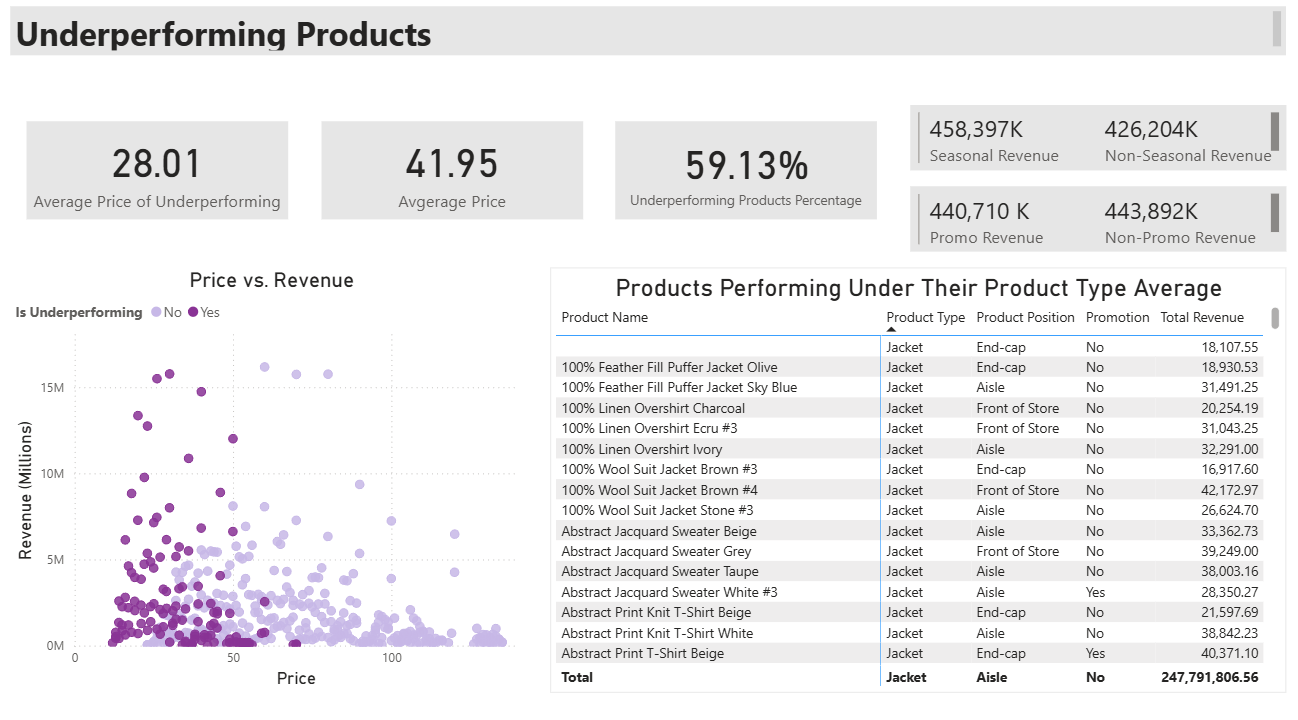

Layout of this report page (visuals, bound fields, positions):
{"tool":"powerbi","page":{"name":"Underperforming Products","canvas":[1280,720],"ordinal":2},"visuals":[{"type":"card","fields":{"Values":["Fact_Sales.Perfcent Of Underperforming Products"]},"box":[608,128,256,96],"z":0,"group":"g1"},{"type":"pivotTable","title":"Products Performing Under Their Product Type Average","fields":{"Rows":["Fact_Sales.Product Name"],"Values":["Min(Fact_Sales.Product Type)","Min(Fact_Sales.Product Position)","Min(Fact_Sales.Promotion)","Fact_Sales.Total Revenue"]},"box":[544,272,720,416],"z":0},{"type":"card","fields":{"Values":["Fact_Sales.Avg Price Underperforming"]},"box":[32,128,256,96],"z":1000,"group":"g1"},{"type":"multiRowCard","fields":{"Values":["Fact_Sales.Promo Revenue","Fact_Sales.Non-Promo Revenue"]},"box":[896,192,368,64],"z":1000},{"type":"card","fields":{"Values":["Fact_Sales.Avgerage Price"]},"box":[320,128,256,96],"z":2000,"group":"g1"},{"type":"multiRowCard","fields":{"Values":["Fact_Sales.Seasonal Revenue","Fact_Sales.Non-Seasonal Revenue"]},"box":[896,112,368,64],"z":2000},{"type":"scatterChart","title":"Price vs. Revenue","fields":{"Y":["Fact_Sales.Total Revenue"],"X":["Fact_Sales.Price"],"Series":["Fact_Sales.Is Underperforming"]},"box":[16,272,512,416],"z":3000},{"type":"group","id":"g1","title":"Group 1","box":[32,128,832,96],"z":4000},{"type":"textbox","box":[16,16,1248,48],"z":5000}]}

Visuals, with their boxes in screenshot pixels (x1, y1, x2, y2), scaled from the page's 1280x720 canvas onto the 1298x720 screenshot:
card - Fact_Sales.Perfcent Of Underperforming Products: BBox(617, 128, 876, 224)
"Products Performing Under Their Product Type Average" pivotTable: BBox(552, 272, 1282, 688)
card - Fact_Sales.Avg Price Underperforming: BBox(32, 128, 292, 224)
multiRowCard - Fact_Sales.Promo Revenue x Fact_Sales.Non-Promo Revenue: BBox(909, 192, 1282, 256)
card - Fact_Sales.Avgerage Price: BBox(324, 128, 584, 224)
multiRowCard - Fact_Sales.Seasonal Revenue x Fact_Sales.Non-Seasonal Revenue: BBox(909, 112, 1282, 176)
"Price vs. Revenue" scatterChart: BBox(16, 272, 535, 688)
"Group 1" group: BBox(32, 128, 876, 224)
textbox: BBox(16, 16, 1282, 64)
